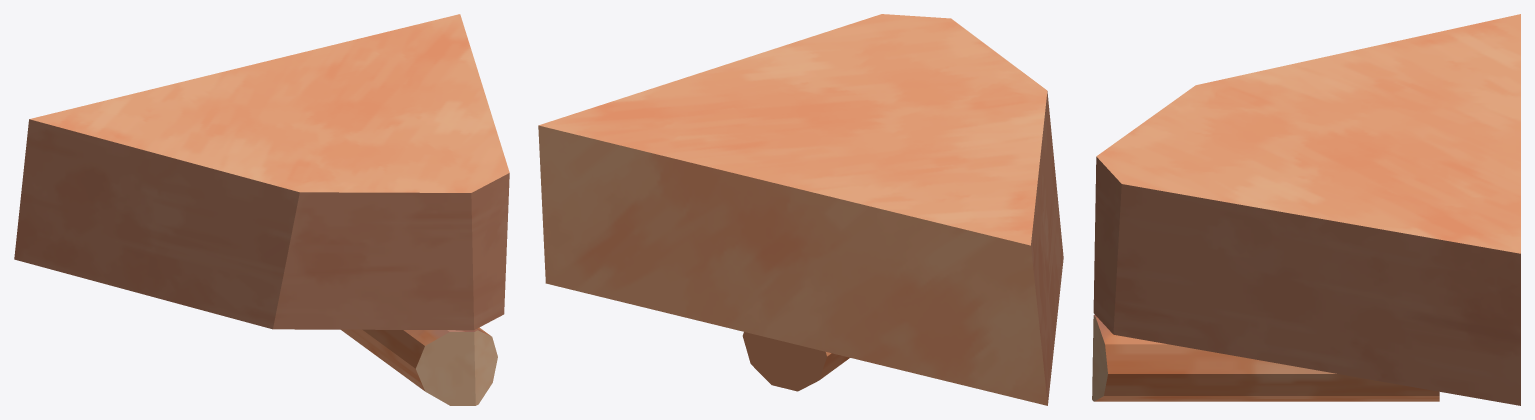
File: roof_s01.fbx
3 views of the same model, side by side, from view 1: azimuth 30°, elevation 25°; view 2: azimuth 150°, elevation 25°; view 3: azimuth 270°, elevation 25° (orthographic). The views are drawn at different scales.
Parts seen in each view (by area): view 1: roof_s01; view 2: roof_s01; view 3: roof_s01.
Boxes of the visible parts, x1=… form: roof_s01: x1=14, y1=14, x2=509, y2=405; roof_s01: x1=538, y1=14, x2=1063, y2=405; roof_s01: x1=1092, y1=14, x2=1520, y2=405.
Size of the model in its own units: 3.62 by 1.65 by 2.64.
